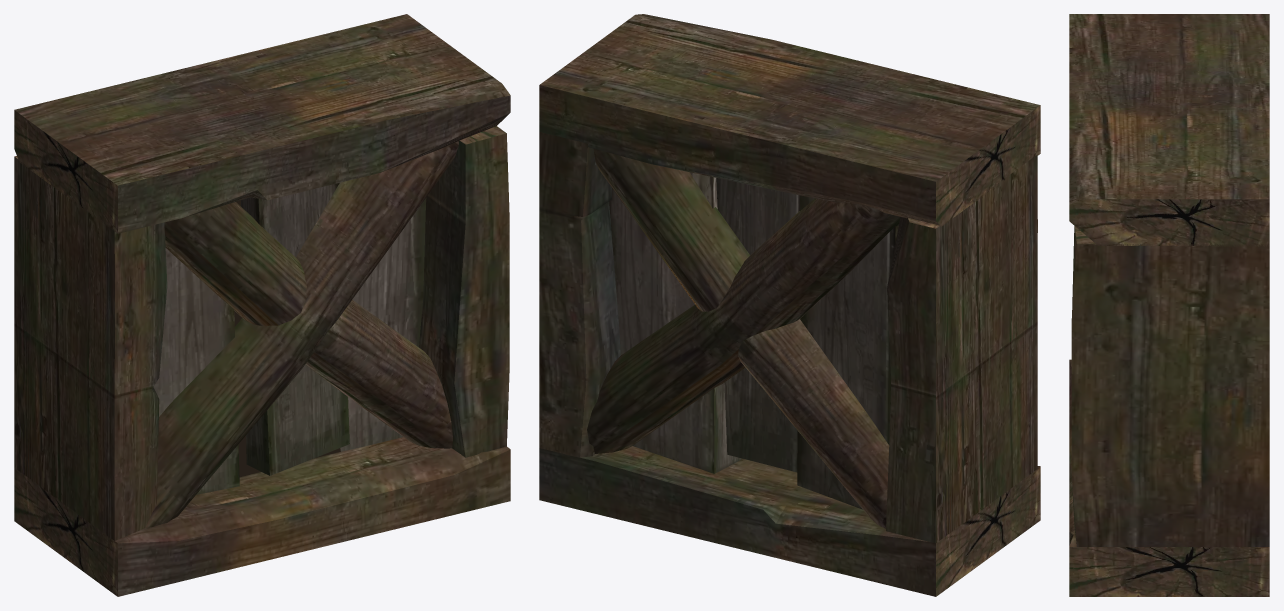
The picture shows the model from 3 angles, left to right: view 1: azimuth 30°, elevation 25°; view 2: azimuth 150°, elevation 25°; view 3: azimuth 270°, elevation 25°; orthographic projection. The views are drawn at different scales.
Parts seen in each view (by area): view 1: SM_BB_T1_Wall_Small_LOD0; view 2: SM_BB_T1_Wall_Small_LOD0; view 3: SM_BB_T1_Wall_Small_LOD0.
Part boxes in pixels (box(x1,y1,x2,y2)): SM_BB_T1_Wall_Small_LOD0: box(14, 14, 510, 596); SM_BB_T1_Wall_Small_LOD0: box(539, 14, 1040, 596); SM_BB_T1_Wall_Small_LOD0: box(1069, 14, 1269, 596).
Bounding box in the file's own units: 0.75 × 0.75 × 0.3427.
Materials: 2 (2 with a texture image).
